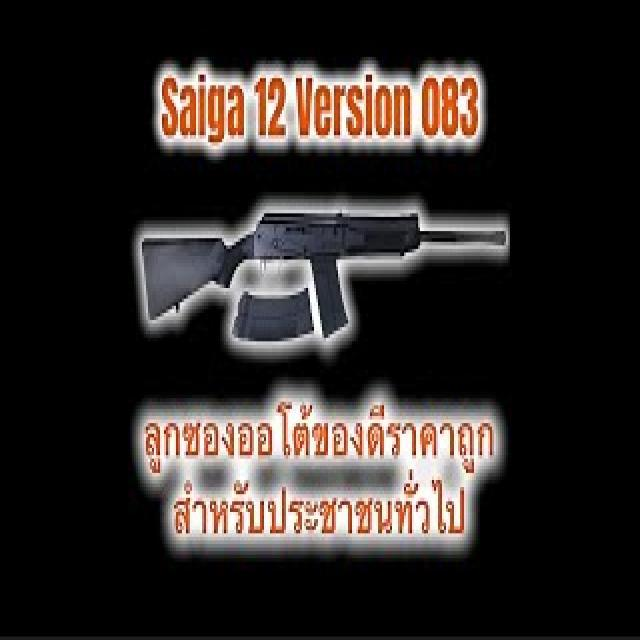weapon: (140, 212, 508, 339)
